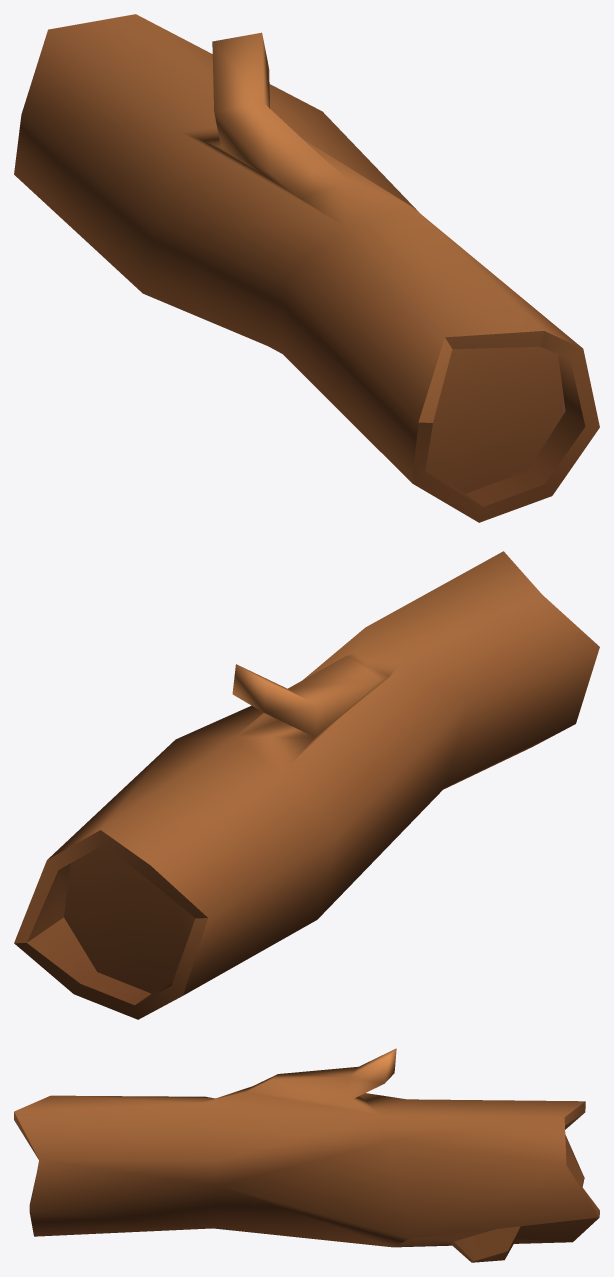
Rendered from WoodTrunc.FBX.
The picture shows the model from 3 angles, top to bottom: view 1: azimuth 30°, elevation 25°; view 2: azimuth 150°, elevation 25°; view 3: azimuth 270°, elevation 25°; orthographic projection. The views are drawn at different scales.
Visible parts, largest first — view 1: pasted__Trunk; view 2: pasted__Trunk; view 3: pasted__Trunk.
Boxes of the visible parts, <box> form: pasted__Trunk: <box>14,14,599,522</box>; pasted__Trunk: <box>14,551,599,1019</box>; pasted__Trunk: <box>14,1048,599,1262</box>.
Size of the model in its own units: 16.39 by 21.46 by 62.49.
